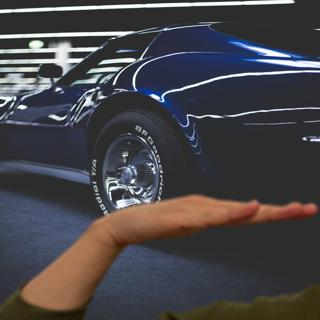WAIT: (95, 184, 320, 251)
